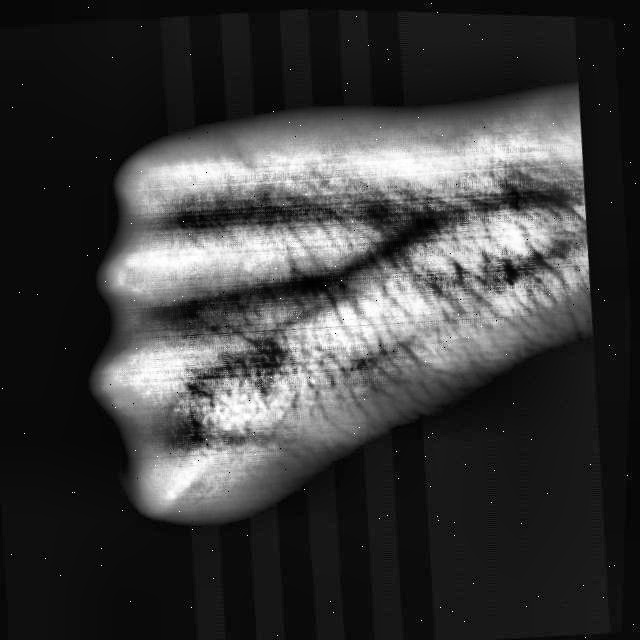Vein: (316, 204, 452, 292)
